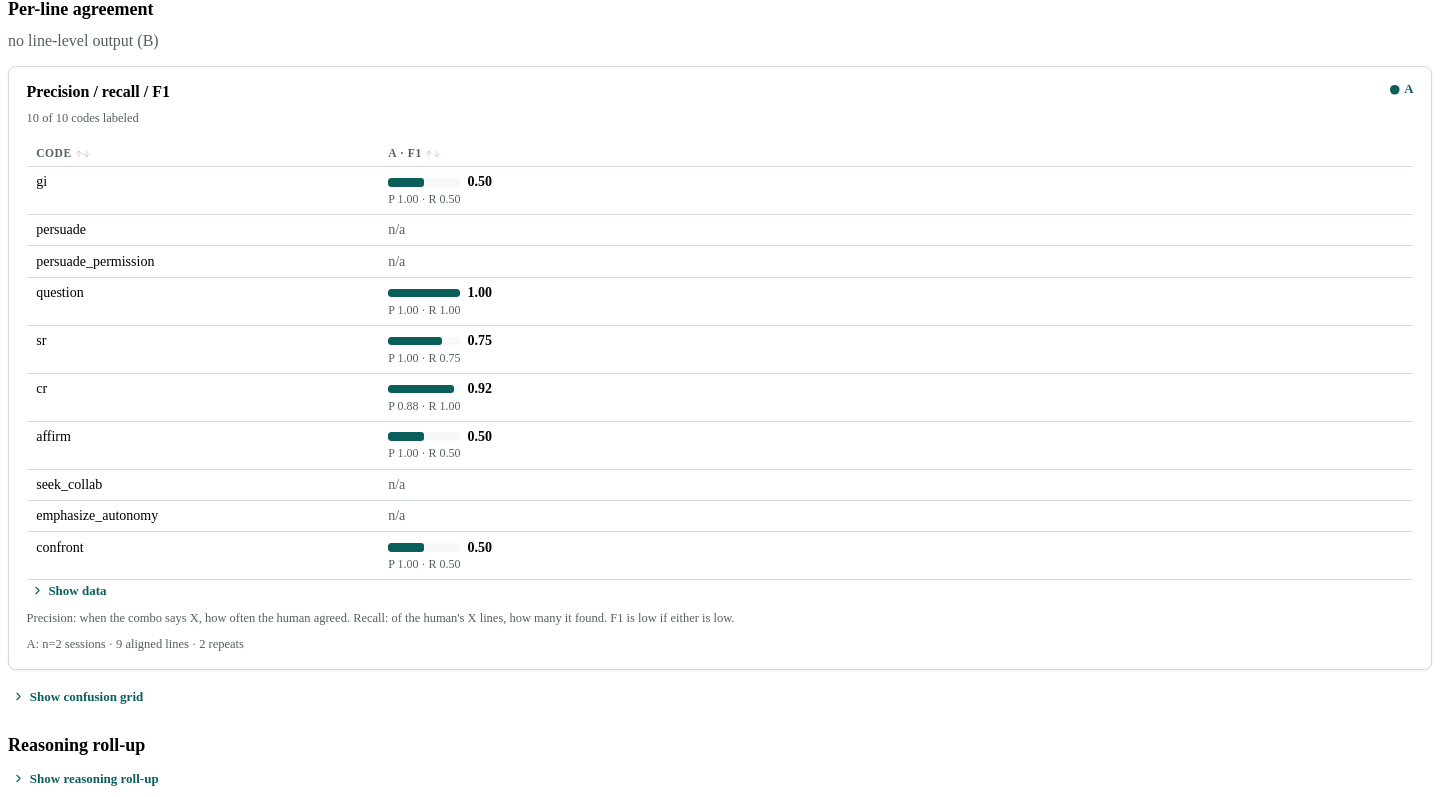
Test: labels human notes and snippets with the dataset session name, not the internal id
The image size is (1440, 797).
(page scrolled)
Step 1. Click the button "Show reasoning roll-up" → (85, 779), box [8,768,163,789]
(page scrolled)
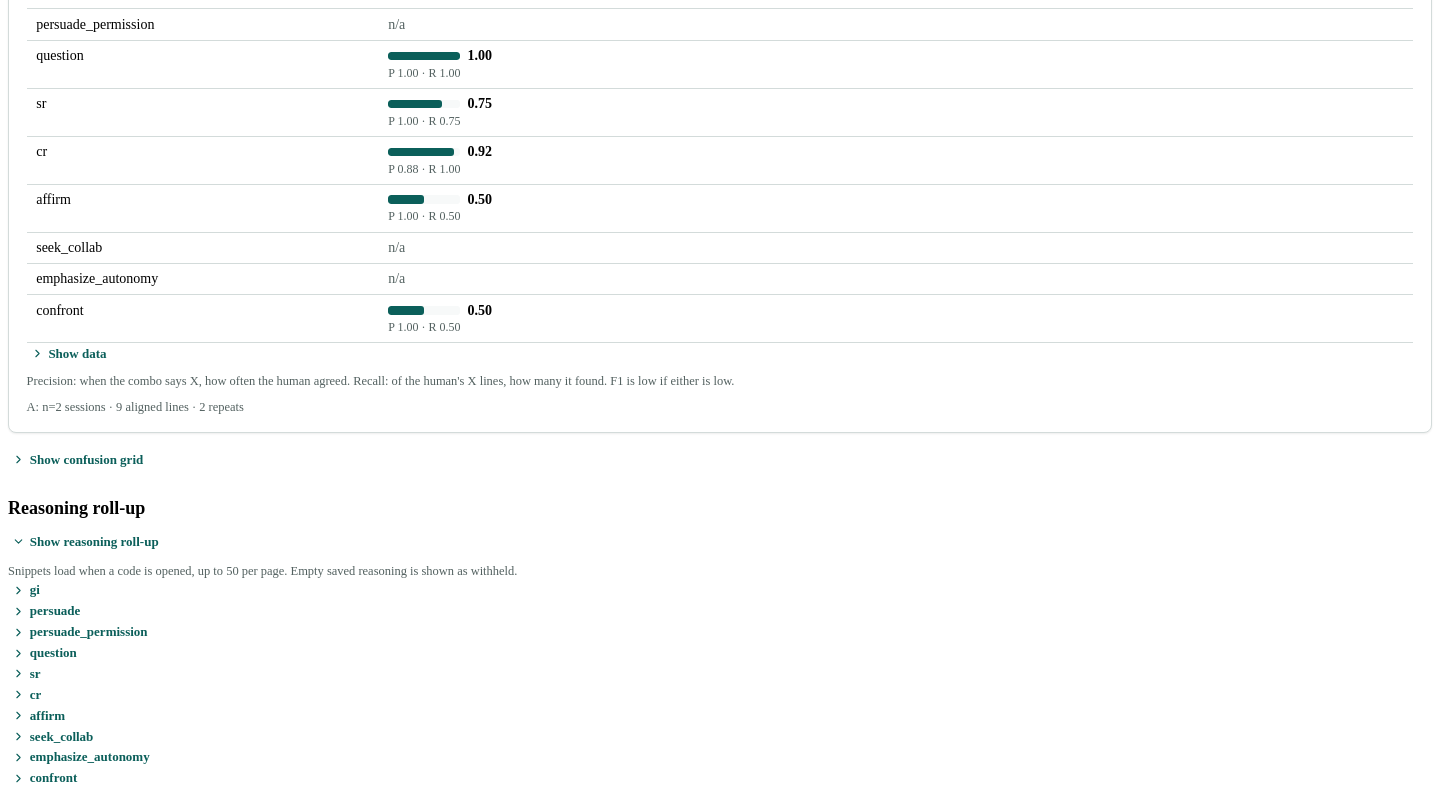
Step 2. Click the button "affirm" → (39, 716), box [8,705,69,726]
(page scrolled)
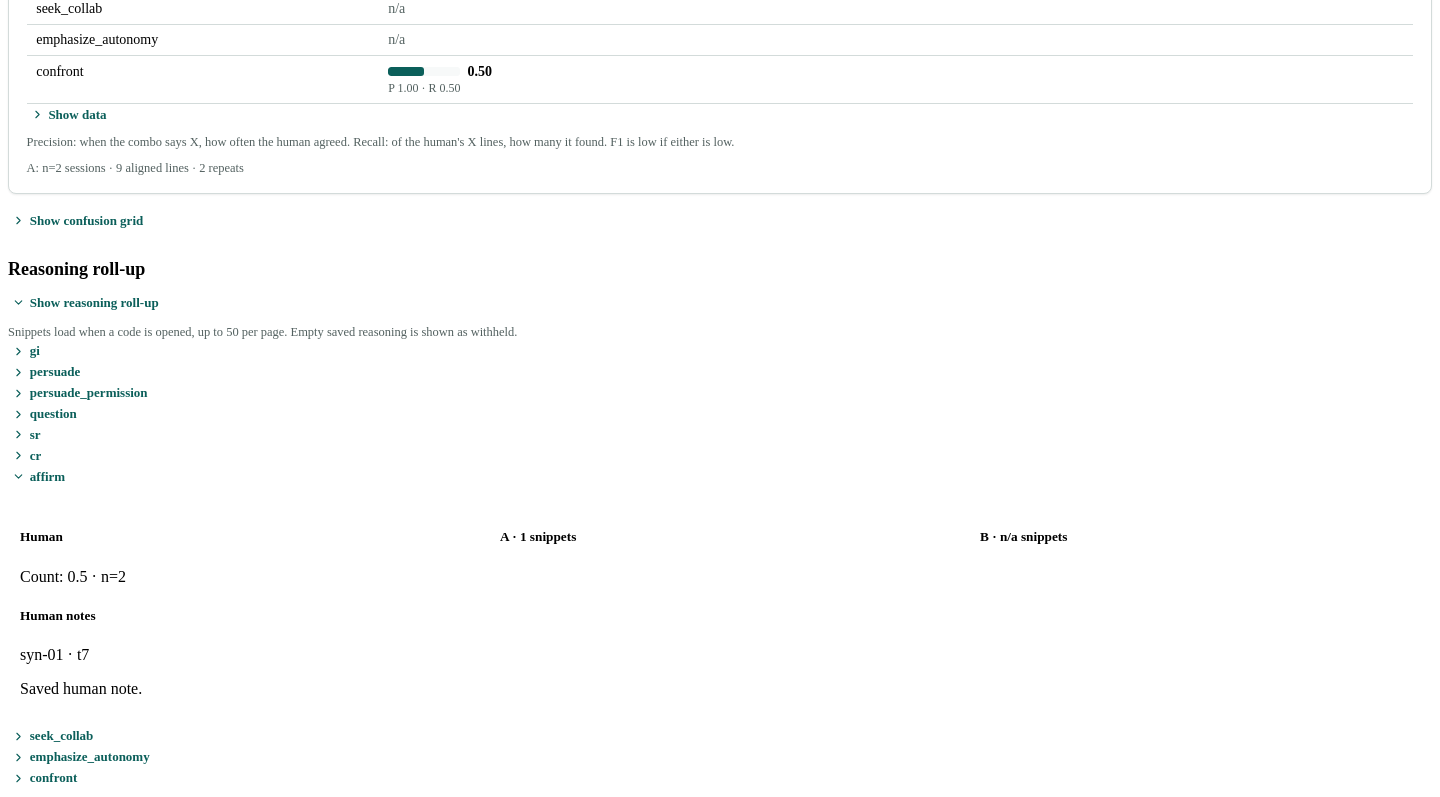
Expected: the text "Saved human note." is shown, [20,680,142,697]
Expected: the text "syn-01 · t7" is shown, [20,646,89,663]
